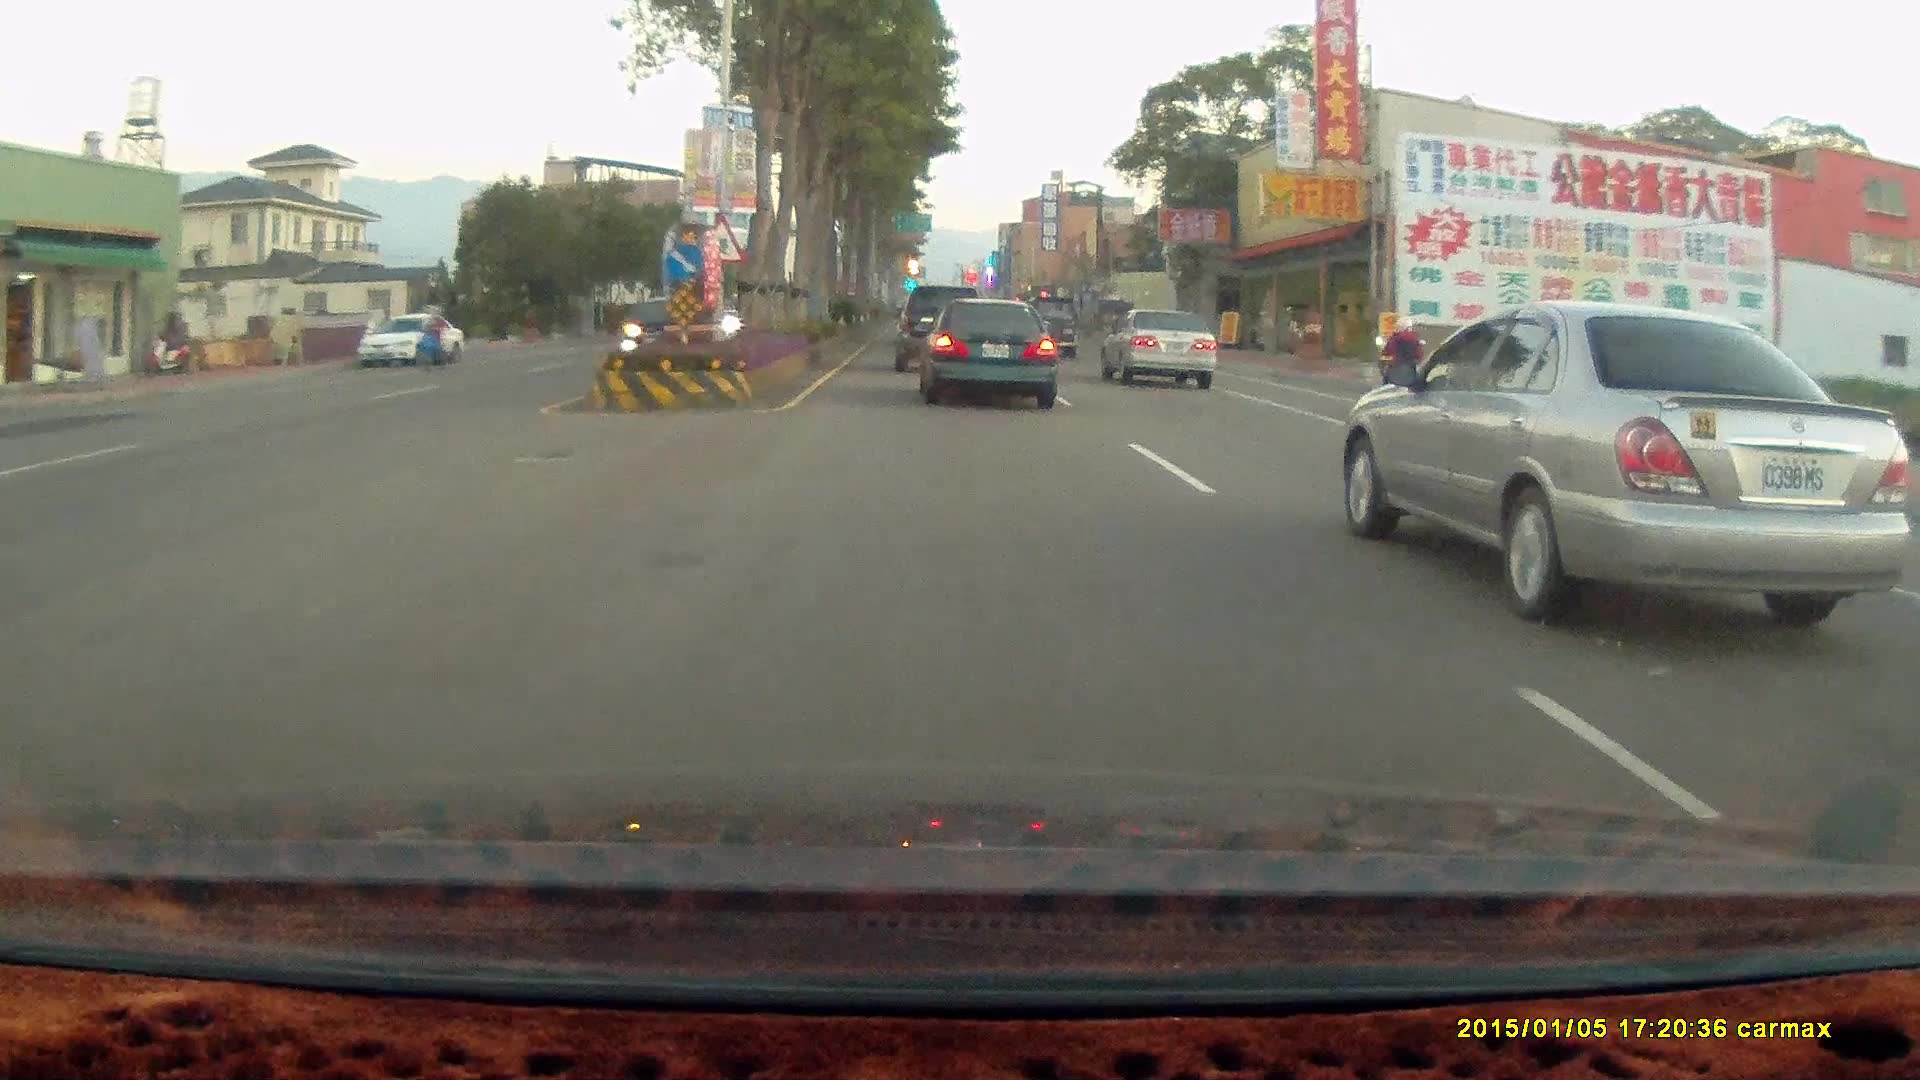rider: (1365, 306, 1440, 424), (1369, 313, 1420, 419), (411, 300, 448, 369)
vehicle: (1350, 288, 1920, 621), (918, 300, 1061, 416), (913, 297, 1057, 410), (1095, 306, 1217, 390), (1100, 310, 1221, 394), (892, 283, 986, 375), (893, 282, 982, 369), (352, 312, 461, 370), (621, 296, 715, 358), (621, 298, 713, 360), (1014, 294, 1079, 359)
